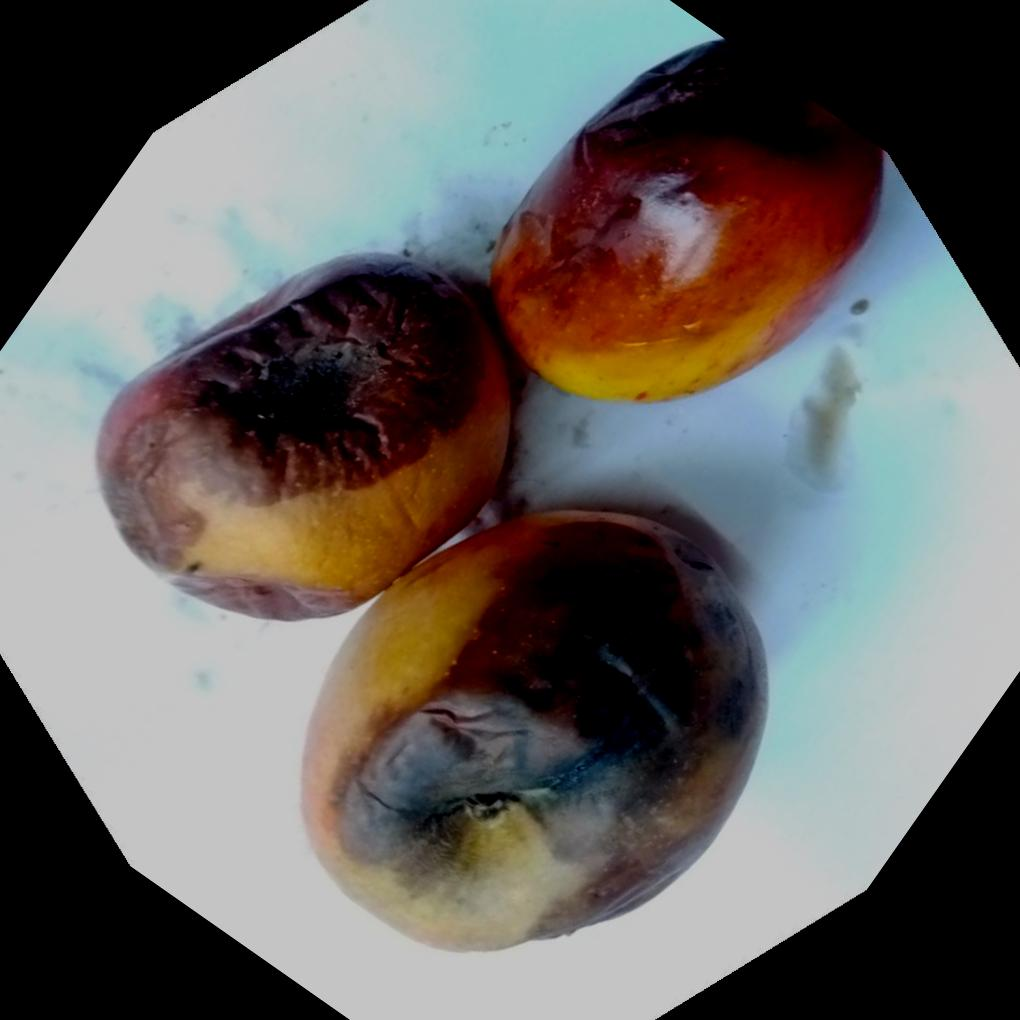FreshOrange: (93, 34, 889, 950)
